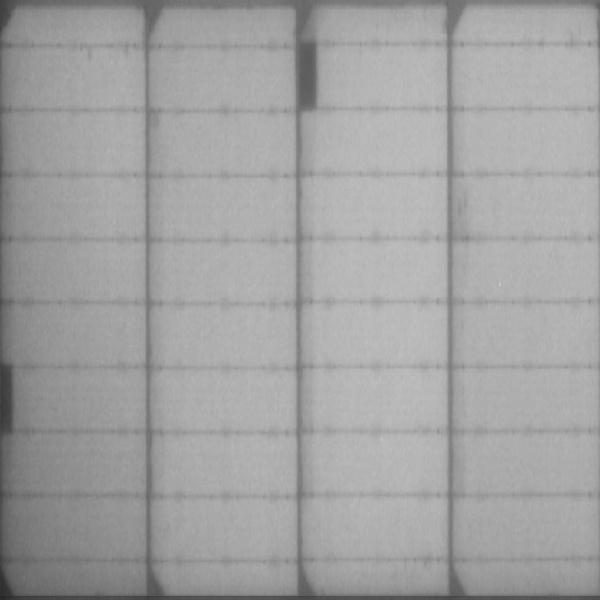black_border: (296, 42, 320, 115), (1, 361, 18, 440)
